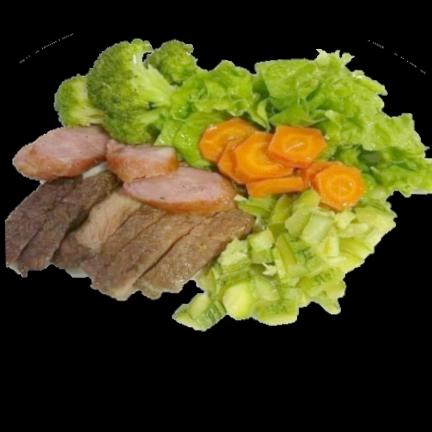broccoli: (56, 40, 200, 143)
green_vegetables: (174, 189, 395, 329)
meat: (5, 172, 254, 299)
salad: (195, 51, 432, 197)
